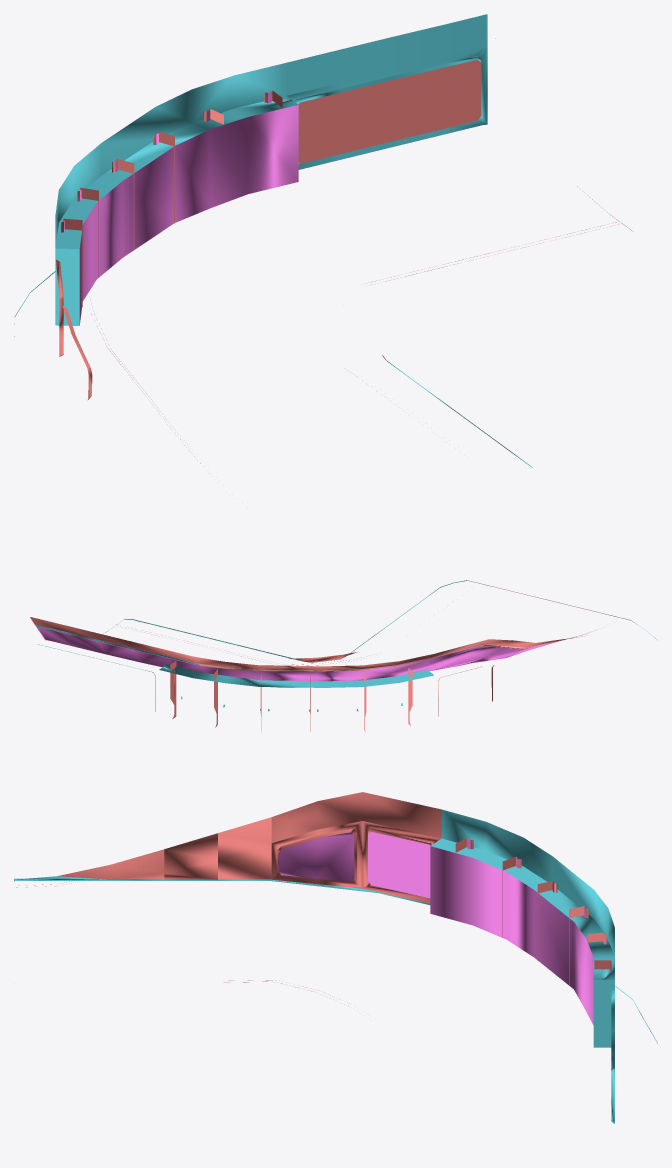
File: RaceTrack_clean_deluxe_prop_uee_15.glb
3 views of the same model, one above another, from view 1: azimuth 30°, elevation 25°; view 2: azimuth 150°, elevation 25°; view 3: azimuth 270°, elevation 25° (orthographic). The views are drawn at different scales.
Bounding box in the file's own units: 15 × 3.01 × 15.
